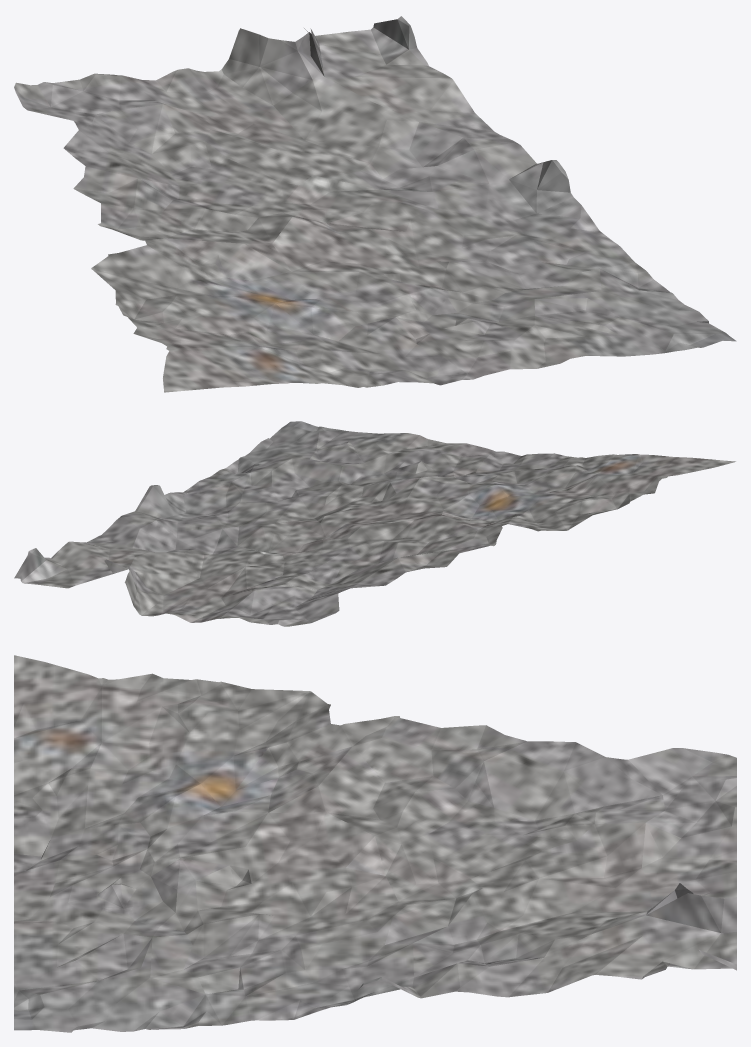
3 views of the same model, one above another, from view 1: azimuth 30°, elevation 25°; view 2: azimuth 150°, elevation 25°; view 3: azimuth 270°, elevation 25° (orthographic). The views are drawn at different scales.
Bounding box in the file's own units: 0.7809 × 0.1199 × 0.8374.
Materials: 2 (2 with a texture image).
